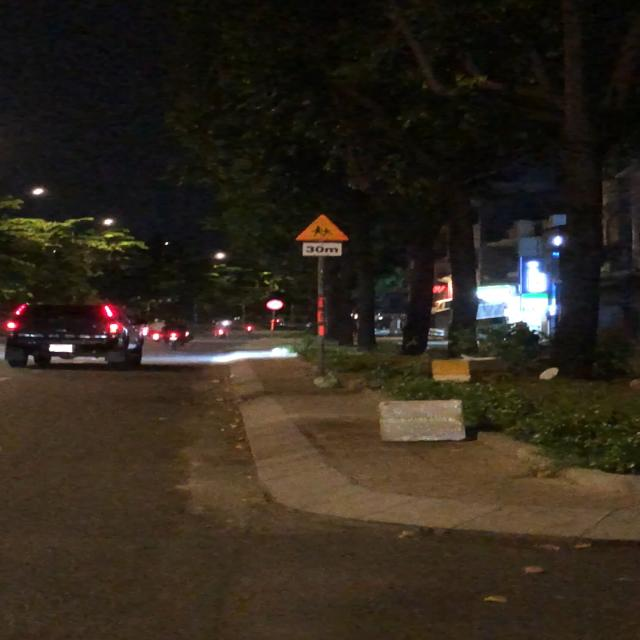Bien bao tre em: (296, 213, 350, 242)
